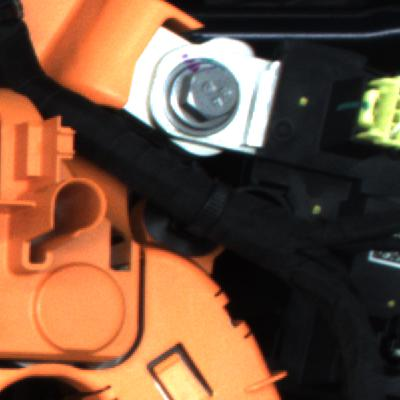nut_b: (161, 52, 251, 136)
